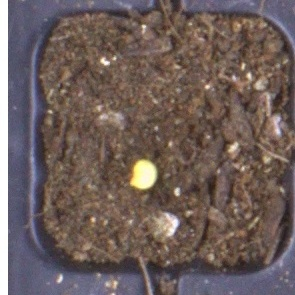chilli seed: (129, 159, 158, 190)
